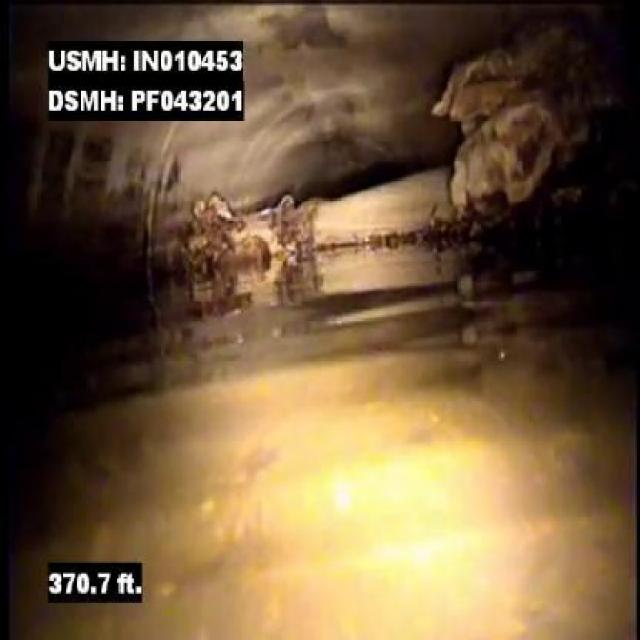Debris: (440, 40, 618, 234)
Utility intrusion: (143, 157, 454, 277)
